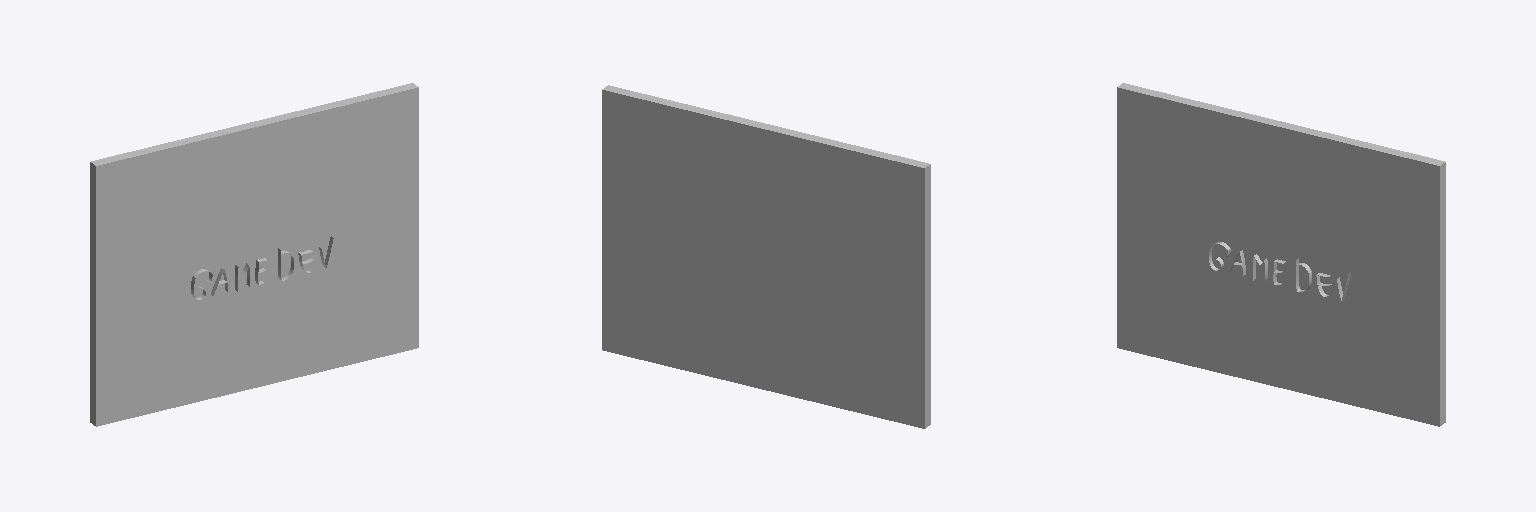
The model's file is gamedev.obj.
The picture shows the model from 3 angles: view 1: azimuth 30°, elevation 25°; view 2: azimuth 150°, elevation 25°; view 3: azimuth 330°, elevation 25°; orthographic projection.
Visible parts, largest first — view 1: obj_0; view 2: obj_0; view 3: obj_0.
Boxes of the visible parts, box(x1,y1,x2,y2) form: obj_0: box(90, 83, 418, 426); obj_0: box(602, 85, 930, 428); obj_0: box(1117, 83, 1445, 426).
Bounding box in the file's own units: 606 × 468 × 30.